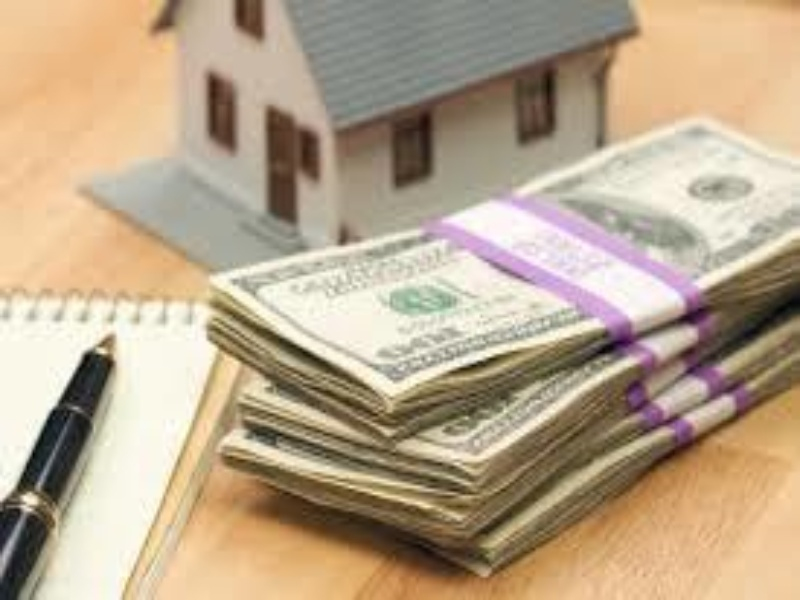cash: (206, 113, 800, 578)
